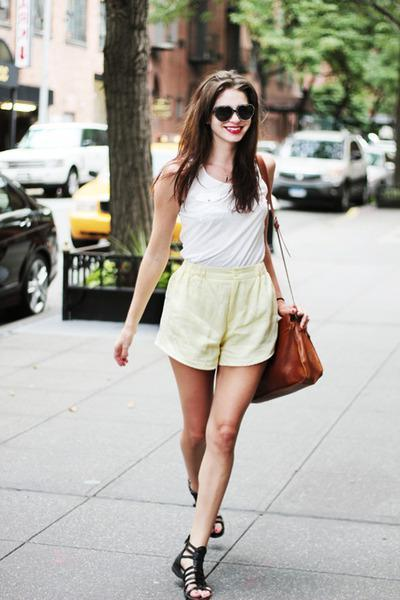Shorts: (149, 264, 281, 376)
vest: (177, 157, 276, 270)
